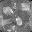people: (0, 16, 12, 29), (2, 7, 14, 16), (15, 16, 23, 25)
